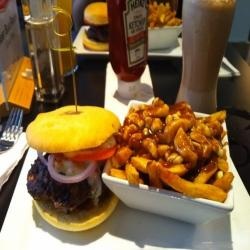burger: (15, 96, 134, 237)
fries: (108, 94, 231, 208)
